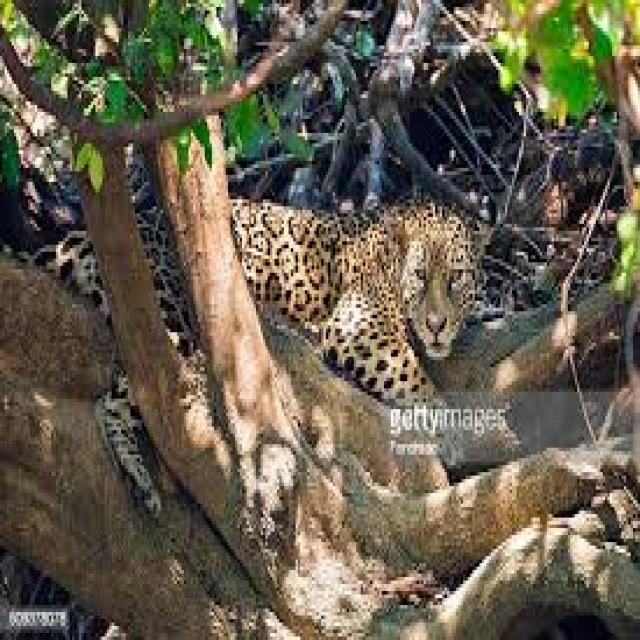Jaguar: (249, 210, 486, 329)
